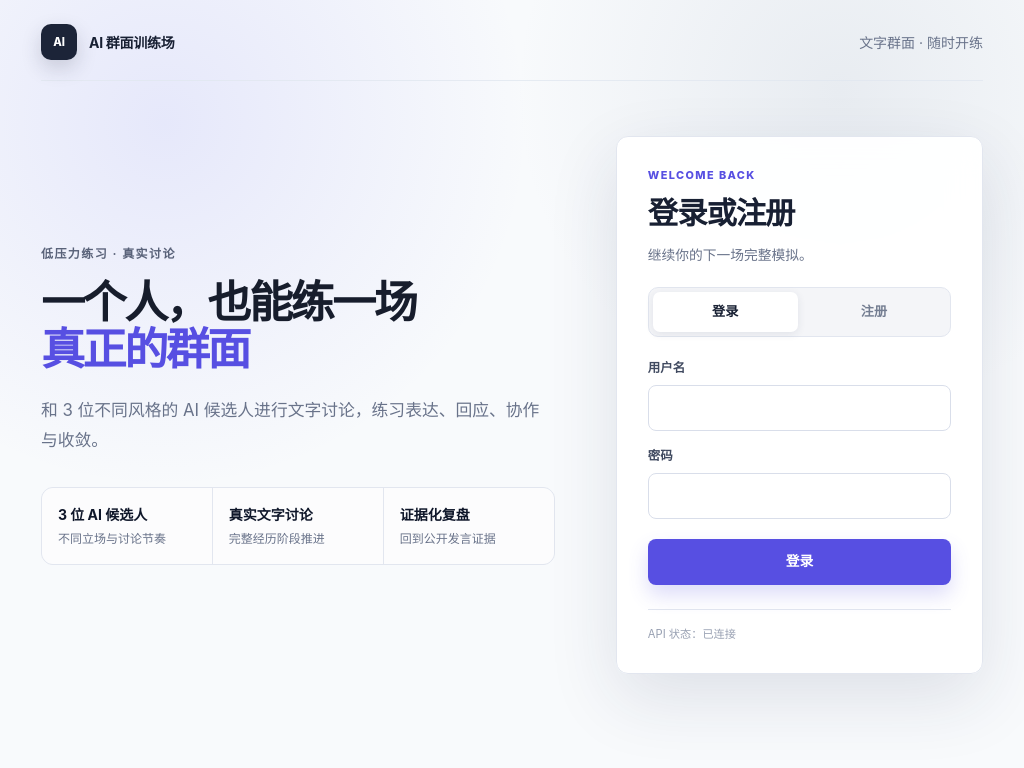
AuthPanel › shows the complete registration-only password requirement before submit
Expected: the heading "登录或注册" is shown, 648,195 -> 794,231
Click the button "注册" at (874, 312), box 802,292 -> 946,332
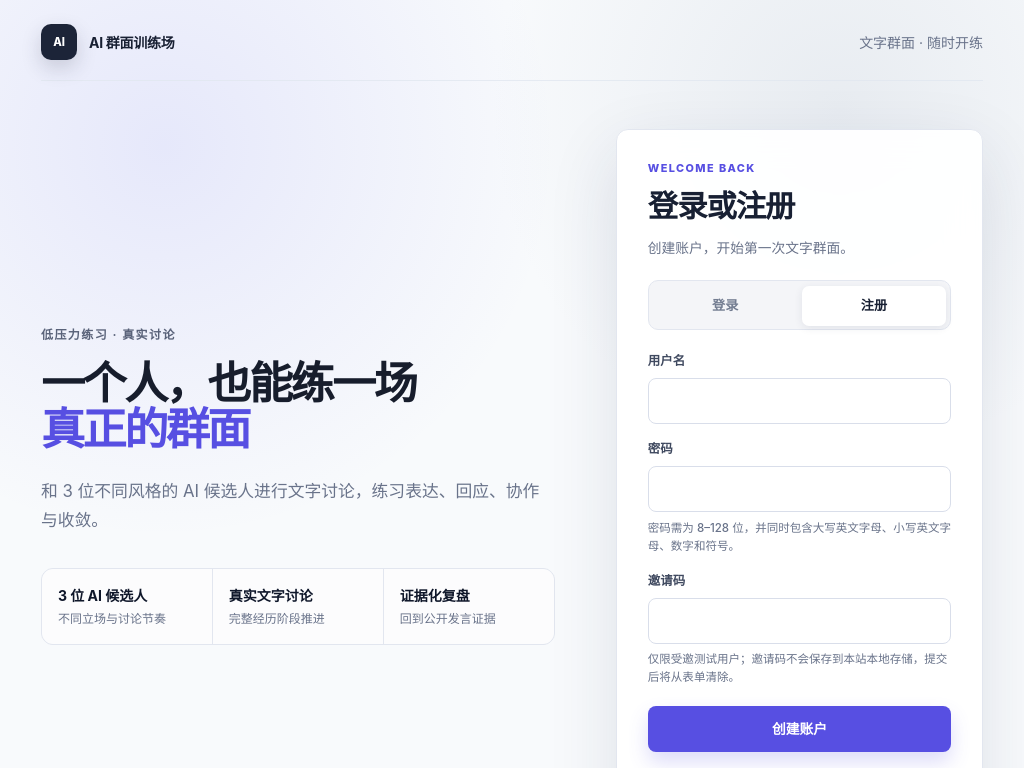
Expected: the text "密码需为 8–128 位，并同时包含大写英文字母、小写英文字母、数字和符号。" is shown, 648,520 -> 951,556
